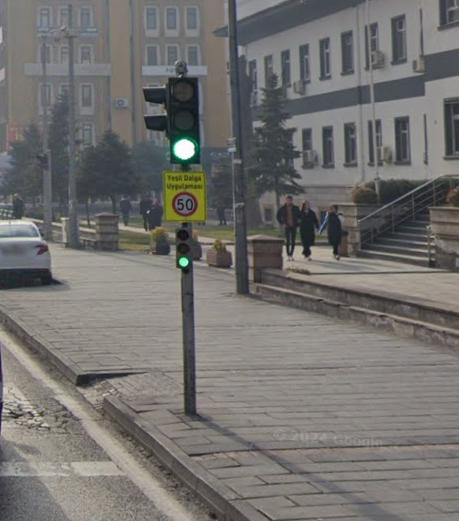greenlight: (167, 77, 200, 163)
